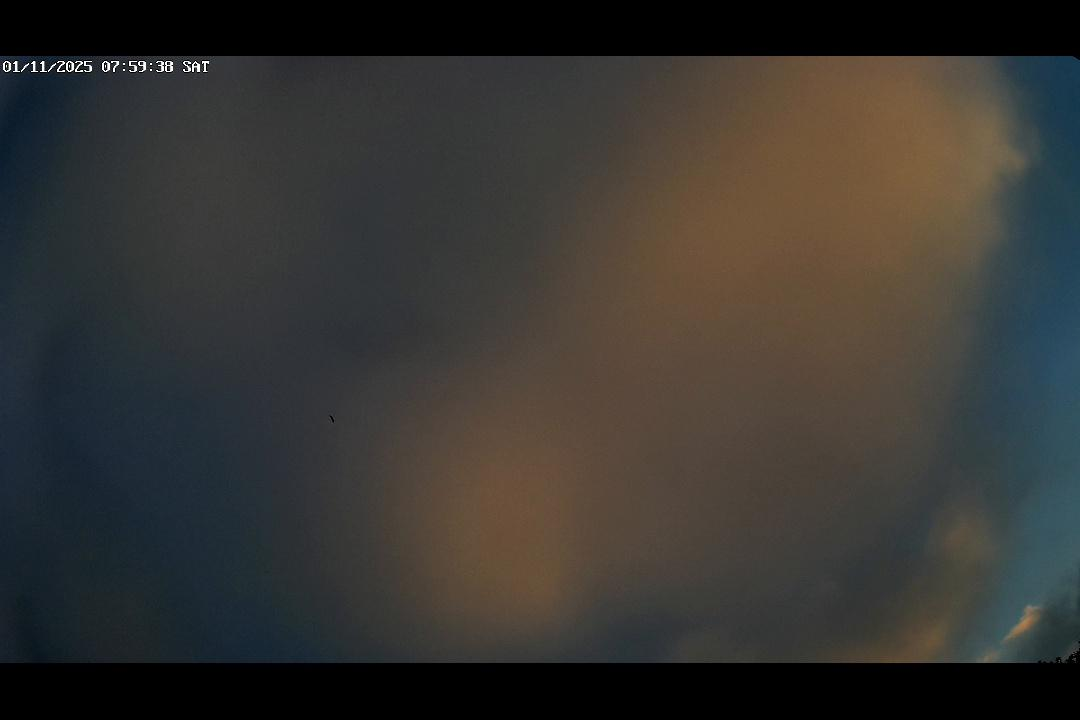WildLife: (323, 409, 341, 429)
